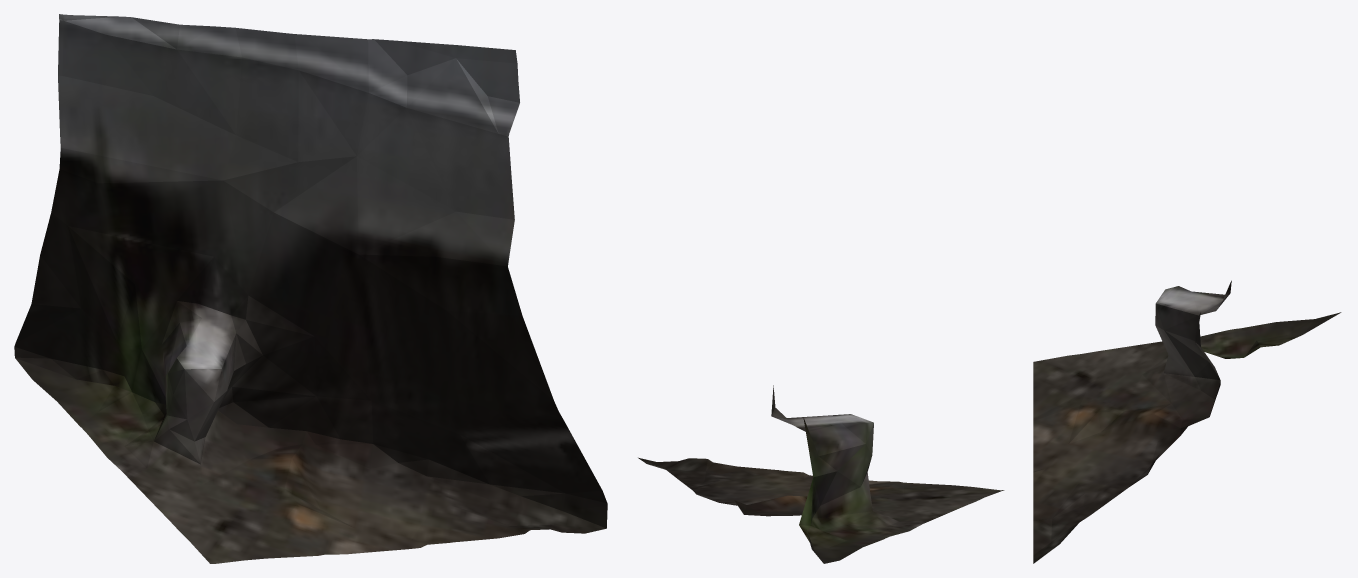
3 renders of one model, left to right at view 1: azimuth 30°, elevation 25°; view 2: azimuth 150°, elevation 25°; view 3: azimuth 270°, elevation 25°, orthographic. The views are drawn at different scales.
Bounding box in the file's own units: 0.7812 × 0.9402 × 0.6663.
Materials: 1 (1 with a texture image).
